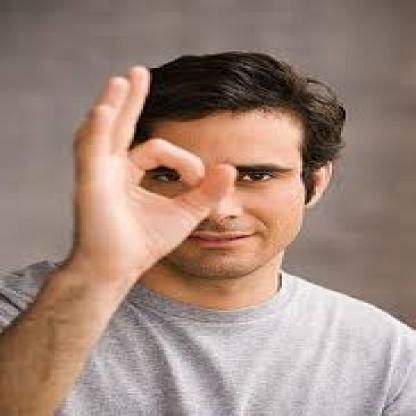ok: (61, 64, 240, 273)
